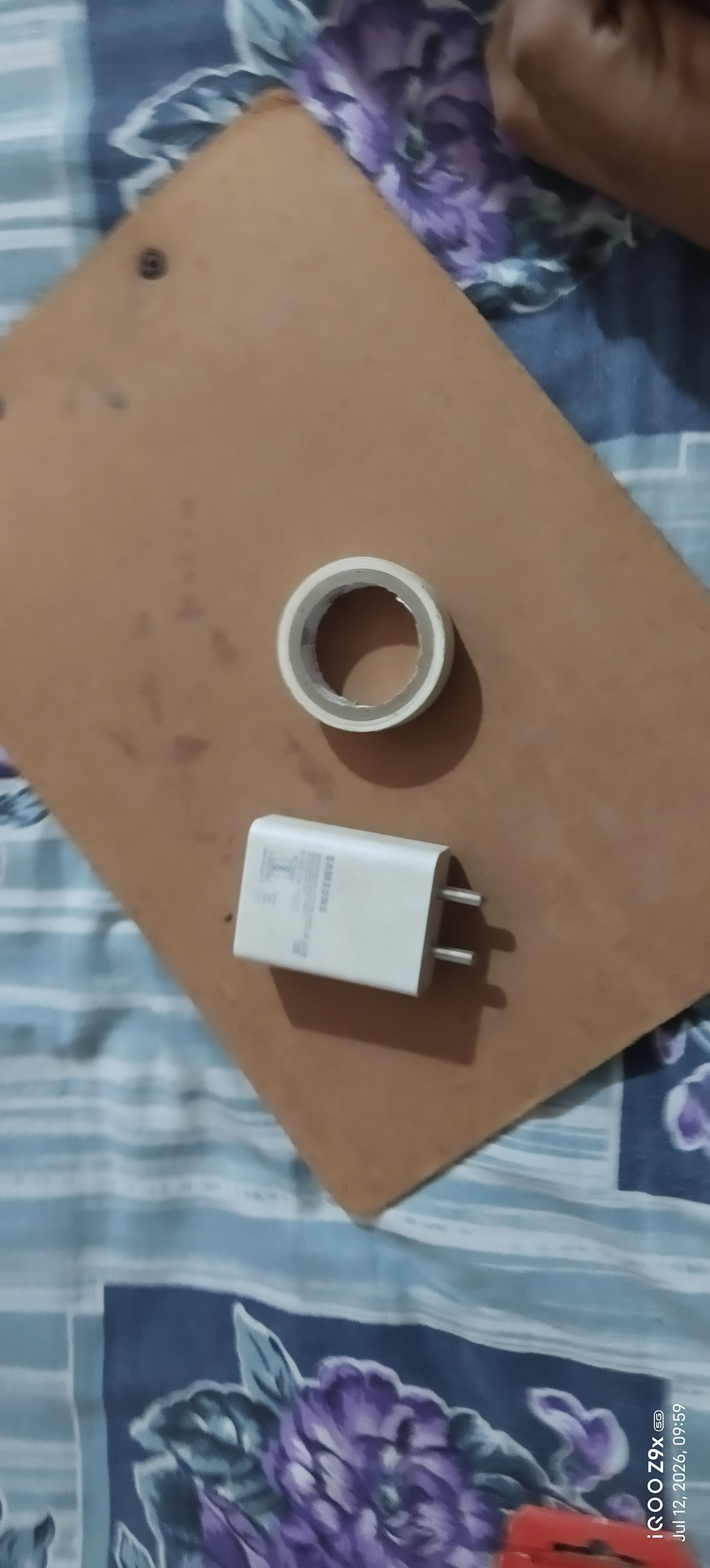charger: (221, 802, 504, 1019)
tape_roll: (259, 547, 472, 750)
